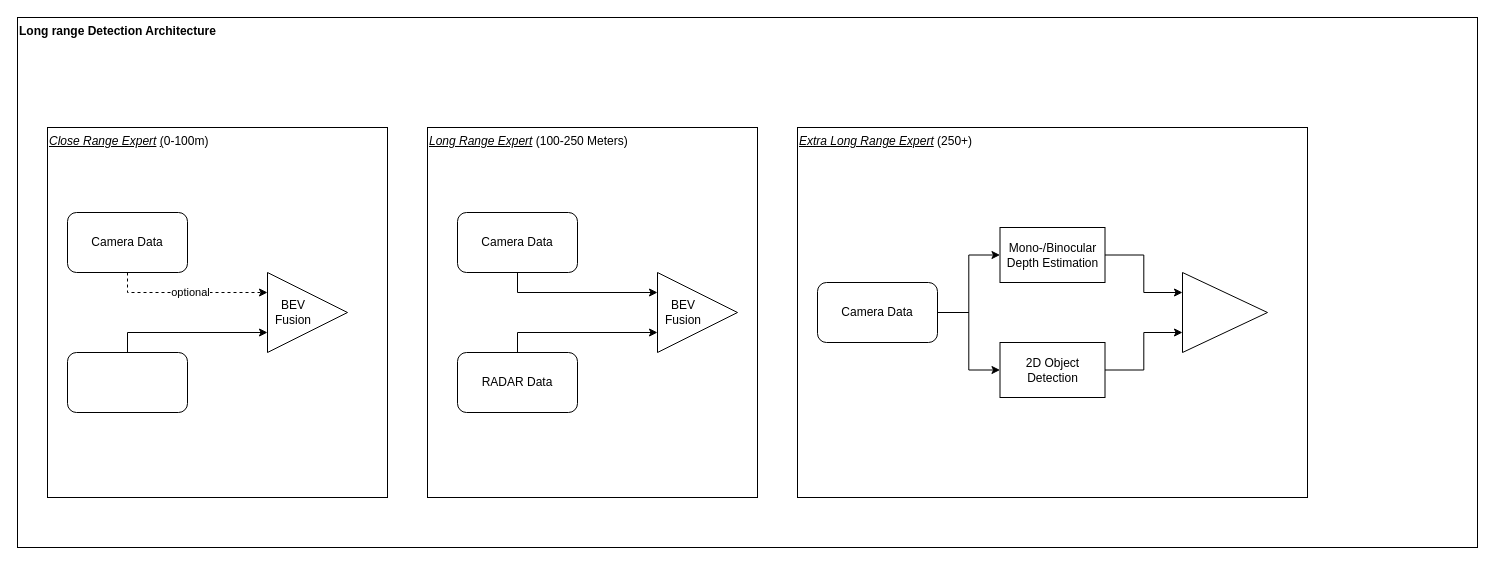
The diagram is 1495 pixels wide and 565 high, and some of its shapes have lost their labels. Here are the shapes that lost their labels. From the top down, the centre of each, then its label:
[1225,312]: 3D Object Frustrum
[127,382]: LiDAR Data
